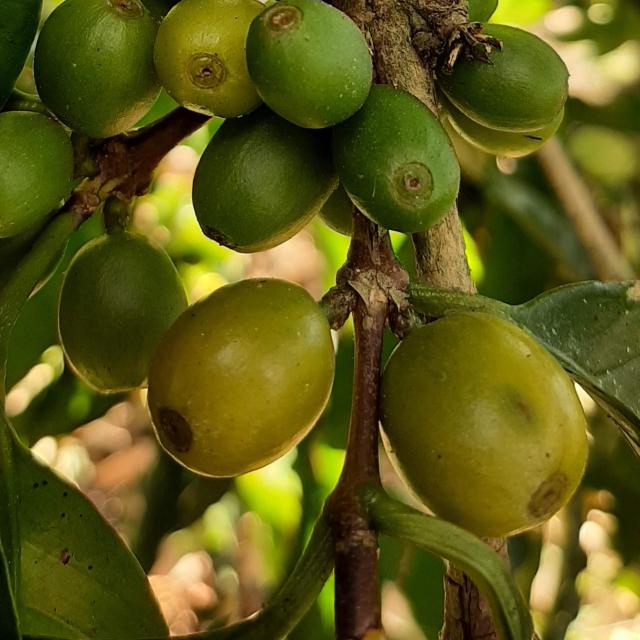green: (192, 104, 338, 253), (57, 231, 187, 394), (332, 85, 461, 233), (33, 0, 160, 137), (246, 0, 372, 128), (438, 23, 570, 132), (0, 110, 73, 238), (439, 90, 565, 157)
yellow: (381, 313, 589, 538), (148, 279, 335, 478), (153, 0, 264, 117)
